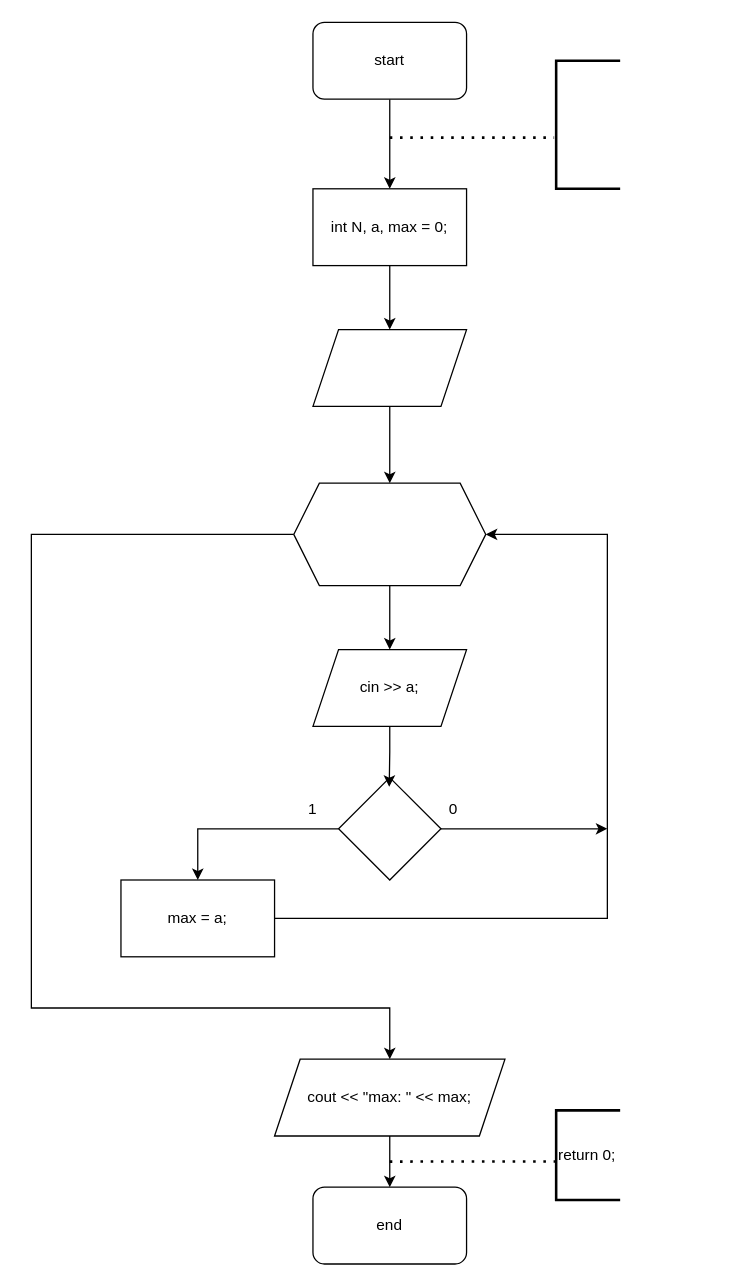
Some shapes in this 731 by 1286 pixel diagram are drawn without their labels. Each missing label, with the centre of its shape:
"#include <iostream> using namespace std; int main ()" goes at (x=587, y=124).
"cin >> N;" goes at (x=389, y=367).
"for (int i = 1; i <= N; i++)" goes at (x=389, y=534).
"if (a > max)" goes at (x=389, y=828).
